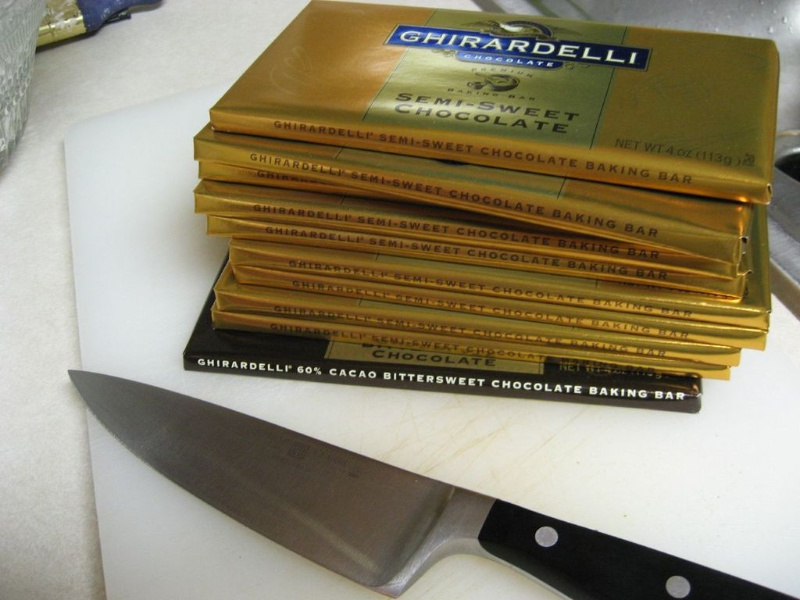knife: (66, 365, 794, 600)
